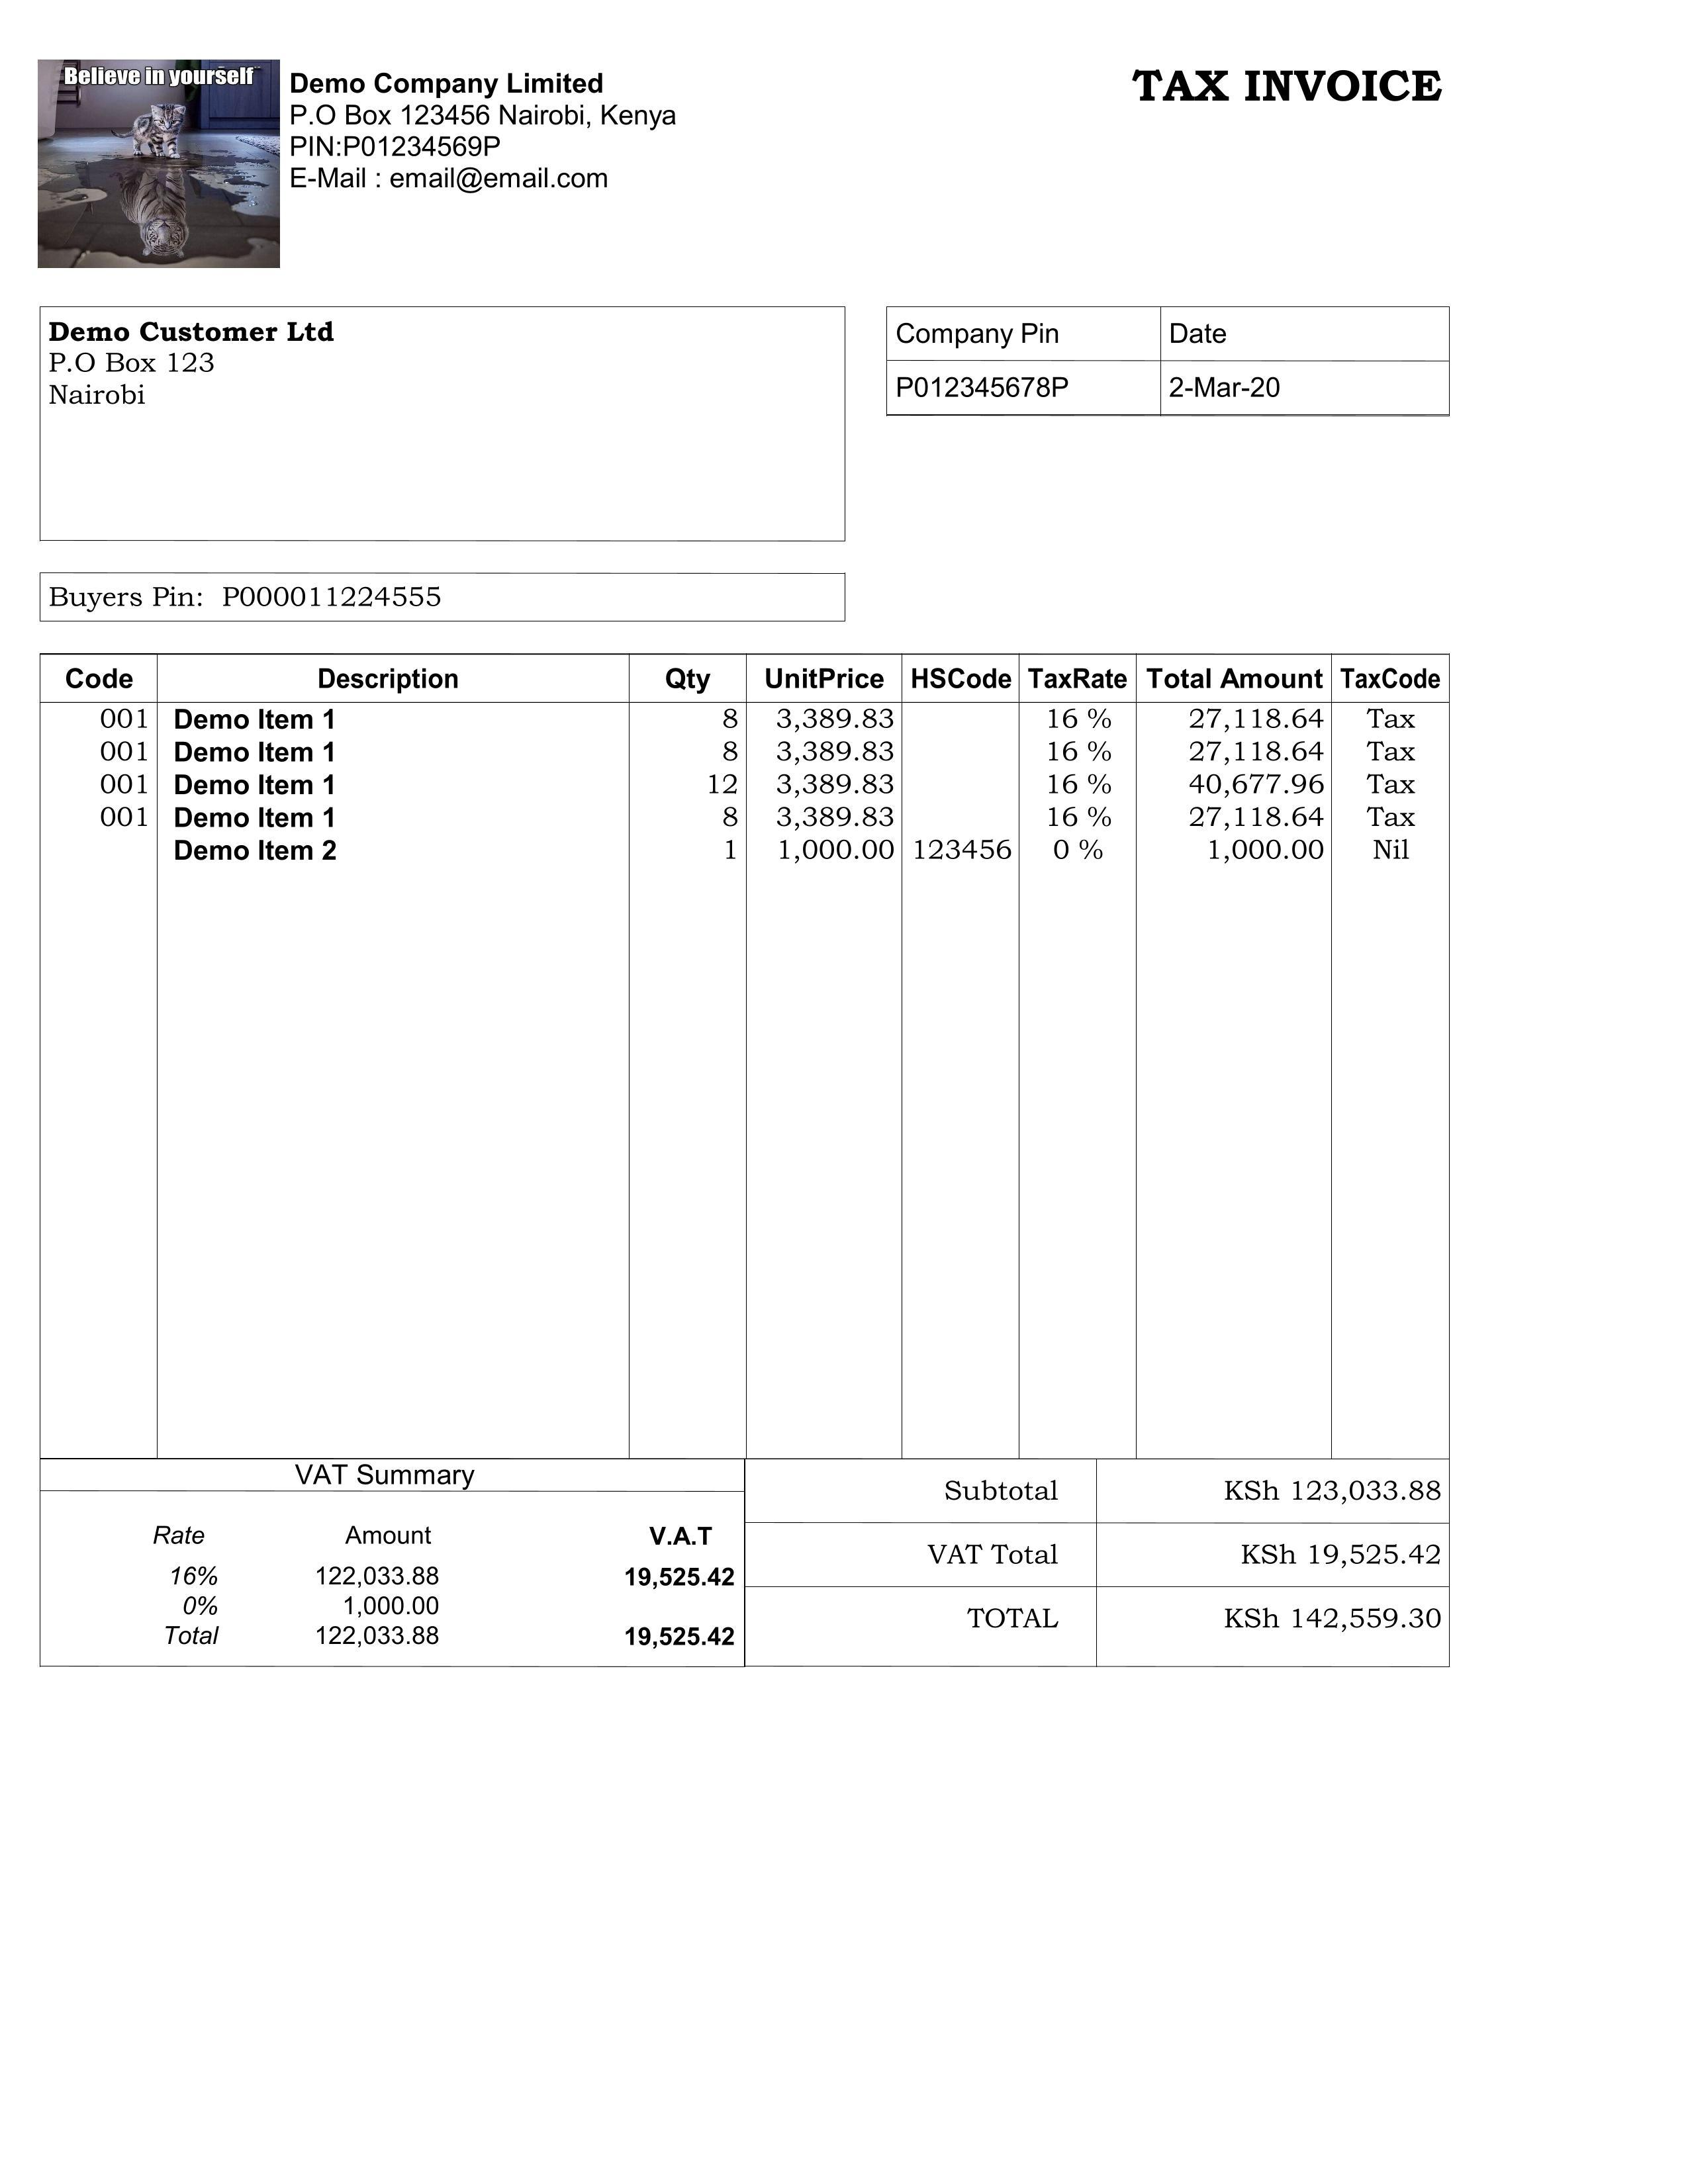InvoiceDate: (1153, 358, 1309, 415)
InvoiceNumber: (199, 569, 457, 622)
TotalAmount: (1195, 1592, 1457, 1656)
